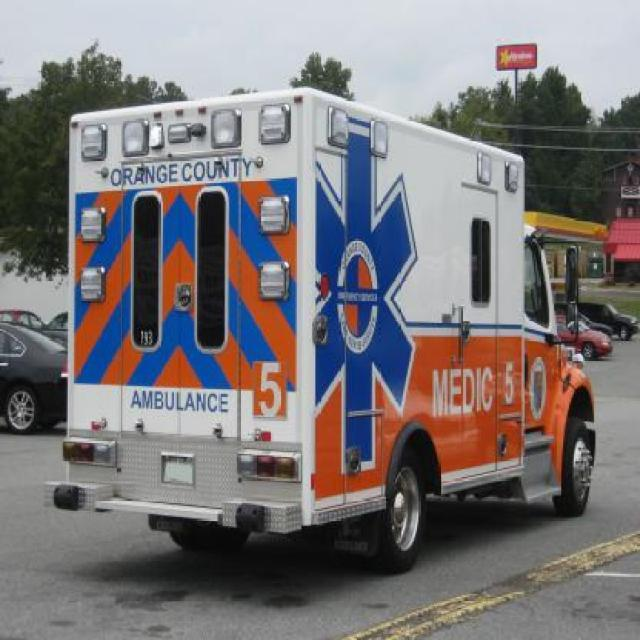Ambulance: (44, 84, 600, 576), (0, 319, 638, 638), (0, 315, 69, 437), (570, 298, 638, 344)
